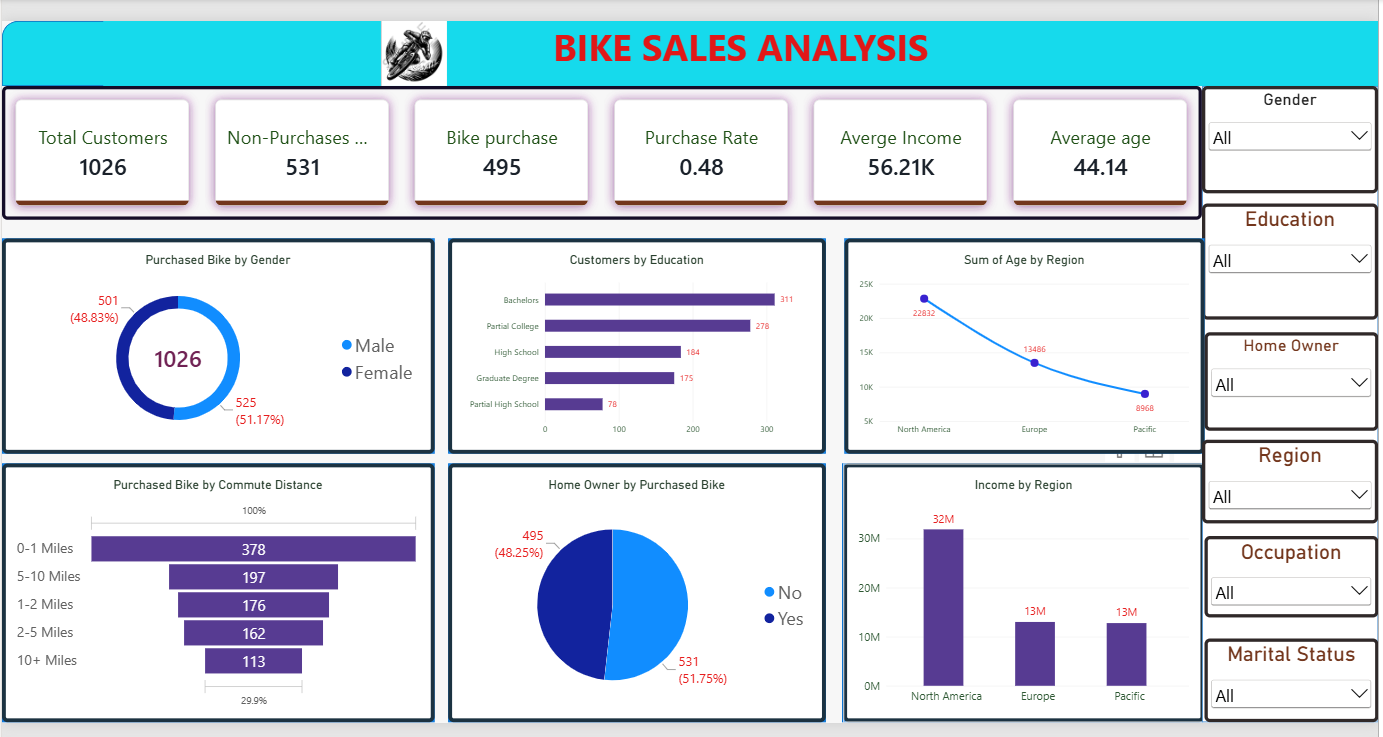

This screenshot's page, from the dashboard's own definition file:
{"tool":"powerbi","page":{"name":"Page 1","canvas":[2000,1020],"ordinal":0},"visuals":[{"type":"shape","box":[0,0,2000.4,94.5],"z":0},{"type":"textbox","box":[147.2,0,1853.2,94.5],"z":1000},{"type":"cardVisual","fields":{"Data":["bike_sales bike_sales.Total Customers","bike_sales bike_sales.Non-Purchases Bikes","bike_sales bike_sales.Bike purchase","bike_sales bike_sales.Purchase Rate","bike_sales bike_sales.Averge Income","bike_sales bike_sales.Average age"]},"box":[0,94.5,1744.2,194.4],"z":2000},{"type":"shape","box":[0,316.1,628.6,312.5],"z":3000},{"type":"donutChart","title":"Purchased Bike by Gender","fields":{"Category":["bike_sales bike_sales.Gender"],"Y":["CountNonNull(bike_sales bike_sales.Purchased Bike)"]},"box":[0,316.1,628.6,312.5],"z":4000},{"type":"shape","box":[648.6,316.1,548.7,312.5],"z":4001},{"type":"barChart","title":" Customers by Education","fields":{"Category":["bike_sales bike_sales.Education"],"Y":["bike_sales bike_sales.Total Customers"]},"box":[648.6,316.1,548.7,312.5],"z":4002},{"type":"shape","box":[0,643.2,628.6,376.1],"z":4003},{"type":"shape","box":[648.6,643.2,548.7,376.1],"z":4004},{"type":"shape","box":[1220.9,643.2,525.1,376.1],"z":4005},{"type":"pieChart","title":" Home Owner by Purchased Bike","fields":{"Category":["bike_sales bike_sales.Purchased Bike"],"Y":["CountNonNull(bike_sales bike_sales.Home Owner)"]},"box":[648.6,643.2,548.7,376.1],"z":4006},{"type":"funnel","title":"Purchased Bike by Commute Distance","fields":{"Category":["bike_sales bike_sales.Commute Distance"],"Y":["CountNonNull(bike_sales bike_sales.Purchased Bike)"]},"box":[0,643.2,628.6,376.1],"z":4007},{"type":"columnChart","title":"Income by Region","fields":{"Category":["bike_sales bike_sales.Region"],"Y":["Sum(bike_sales bike_sales.Income)"]},"box":[1222.8,643.2,525.1,376.1],"z":4008},{"type":"shape","box":[1744.2,94.5,256.2,924.8],"z":4009},{"type":"slicer","title":"Gender","fields":{"Values":["bike_sales bike_sales.Gender"]},"box":[1744.2,94.5,256.2,156.3],"z":4010},{"type":"slicer","title":"Education","fields":{"Values":["bike_sales bike_sales.Education"]},"box":[1744.2,265.3,256.2,169],"z":4011},{"type":"image","box":[425.1,0,347,94.5],"z":4013},{"type":"shape","box":[1224.6,316.1,523.3,312.5],"z":4014},{"type":"lineChart","fields":{"Category":["bike_sales bike_sales.Region"],"Y":["Sum(bike_sales bike_sales.Age)"]},"box":[1224.6,316.1,523.3,312.5],"z":4015},{"type":"slicer","title":"Home Owner","fields":{"Values":["bike_sales bike_sales.Home Owner"]},"box":[1747.8,452.4,252.5,143.5],"z":4016},{"type":"slicer","title":"Region","fields":{"Values":["bike_sales bike_sales.Region"]},"box":[1744.2,608.6,256.2,121.7],"z":4017},{"type":"slicer","title":"Occupation","fields":{"Values":["bike_sales bike_sales.Occupation"]},"box":[1747.8,748.5,252.5,118.1],"z":4018},{"type":"slicer","title":"Marital Status","fields":{"Values":["bike_sales bike_sales.Marital Status"]},"box":[1747.8,897.5,252.5,121.7],"z":4019}]}

Visuals, with their boxes in screenshot pixels (x1, y1, x2, y2):
shape: (left=4, top=22, right=1368, bottom=86)
textbox: (left=104, top=22, right=1368, bottom=86)
cardVisual - bike_sales bike_sales.Total Customers x bike_sales bike_sales.Non-Purchases Bikes: (left=4, top=86, right=1193, bottom=219)
shape: (left=4, top=237, right=432, bottom=450)
"Purchased Bike by Gender" donutChart: (left=4, top=237, right=432, bottom=450)
shape: (left=446, top=237, right=820, bottom=450)
" Customers by Education" barChart: (left=446, top=237, right=820, bottom=450)
shape: (left=4, top=460, right=432, bottom=717)
shape: (left=446, top=460, right=820, bottom=717)
shape: (left=836, top=460, right=1194, bottom=717)
" Home Owner by Purchased Bike" pieChart: (left=446, top=460, right=820, bottom=717)
"Purchased Bike by Commute Distance" funnel: (left=4, top=460, right=432, bottom=717)
"Income by Region" columnChart: (left=837, top=460, right=1196, bottom=717)
shape: (left=1193, top=86, right=1368, bottom=717)
"Gender" slicer: (left=1193, top=86, right=1368, bottom=193)
"Education" slicer: (left=1193, top=203, right=1368, bottom=318)
image: (left=293, top=22, right=530, bottom=86)
shape: (left=839, top=237, right=1196, bottom=450)
lineChart - bike_sales bike_sales.Region x Sum(bike_sales bike_sales.Age): (left=839, top=237, right=1196, bottom=450)
"Home Owner" slicer: (left=1195, top=330, right=1368, bottom=428)
"Region" slicer: (left=1193, top=437, right=1368, bottom=520)
"Occupation" slicer: (left=1195, top=532, right=1368, bottom=613)
"Marital Status" slicer: (left=1195, top=634, right=1368, bottom=717)
